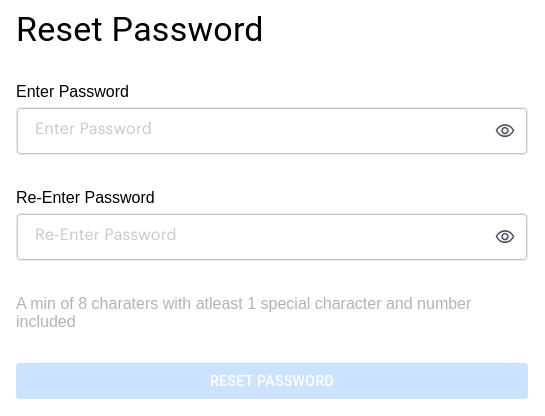
Test case: Reset Password › should render password error message for atleast 1 digit correctlyy
This screenshot has width=545, height=416.
Type "Abcde@aa" into the field with id "textfield-input" at (250, 131), box [21, 104, 479, 158]
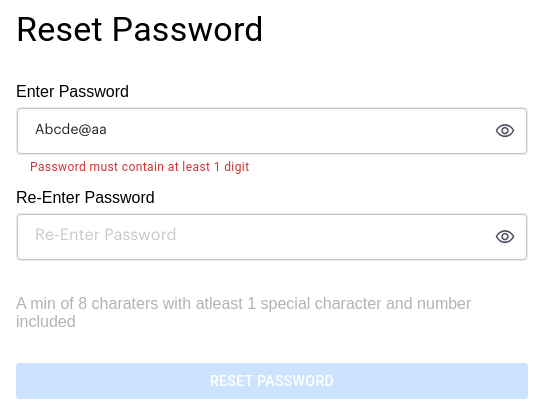
Check: the text "Password must contain at least 1 digit" is shown, box [30, 160, 250, 174]
